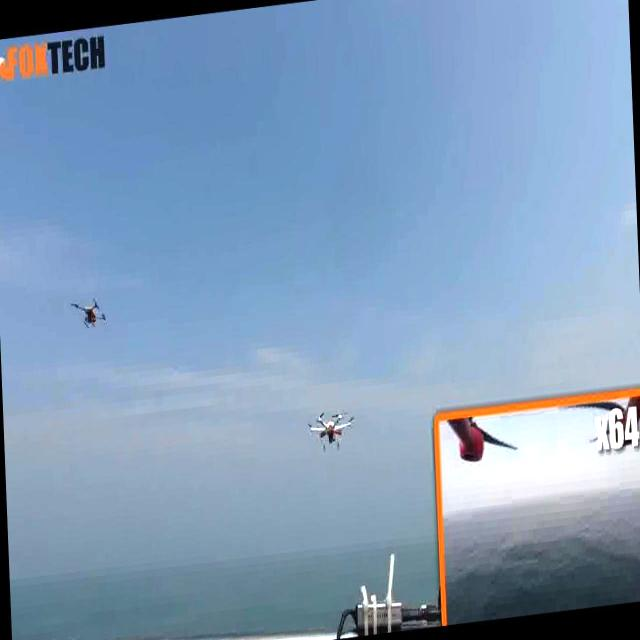drone: (305, 400, 357, 462), (70, 285, 111, 340)
